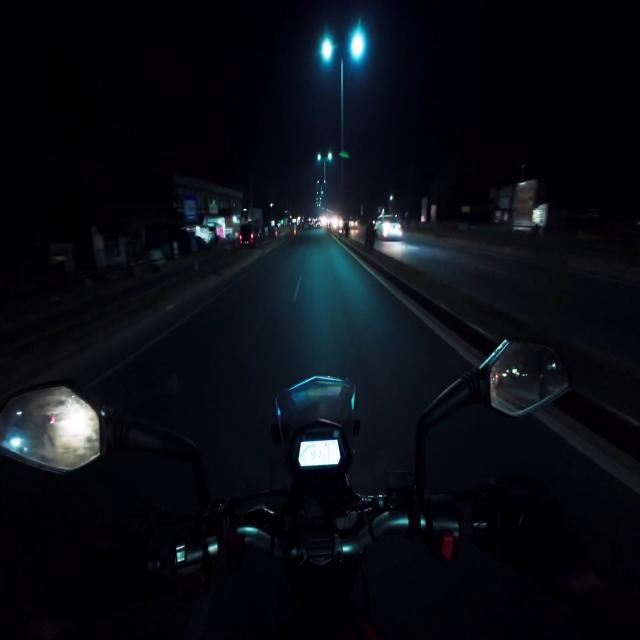car: (376, 214, 402, 239), (239, 223, 262, 247)
motorcycle: (0, 341, 570, 638)
